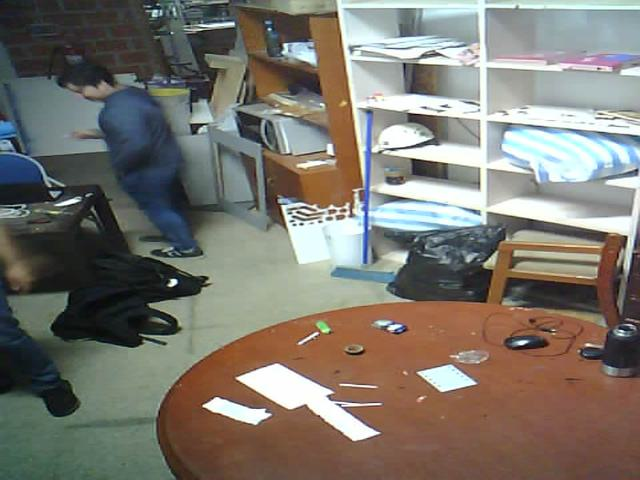person: (43, 49, 220, 269)
